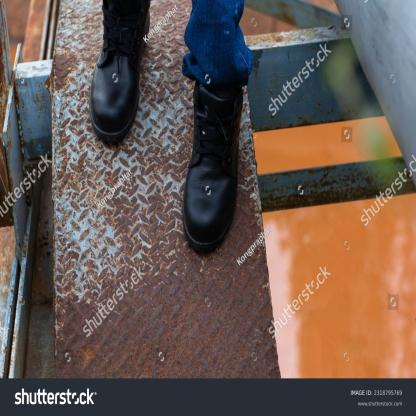bota: (181, 81, 246, 256), (87, 0, 152, 146)
